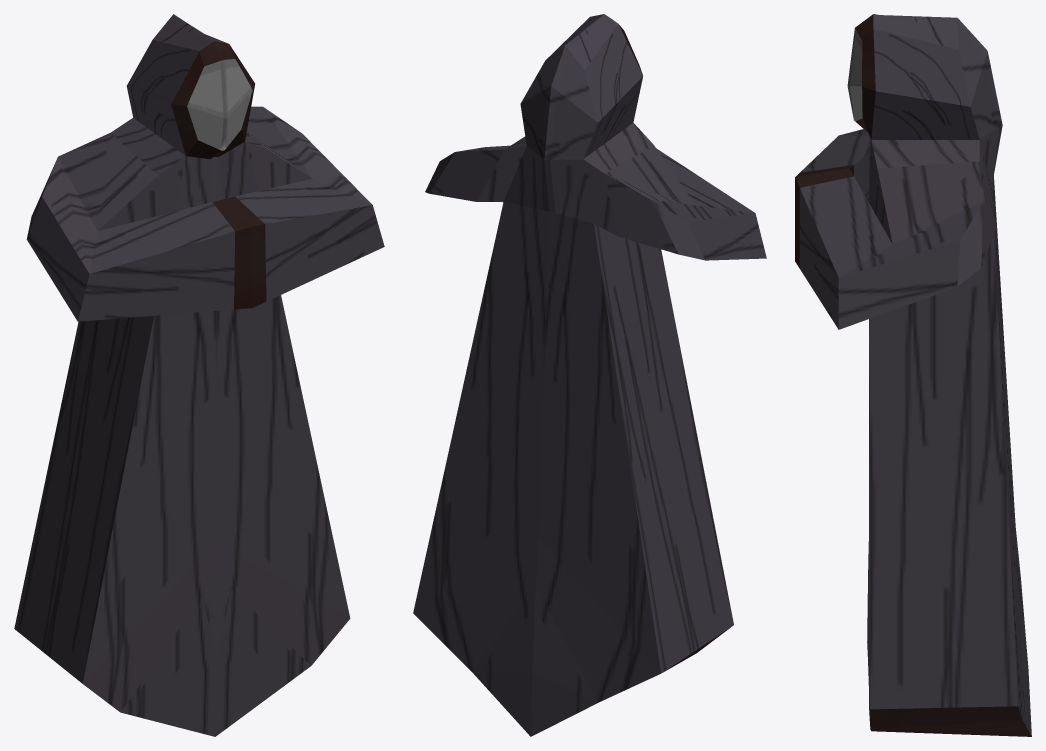
The model's file is templar.glb.
The picture shows the model from 3 angles, left to right: view 1: azimuth 30°, elevation 25°; view 2: azimuth 150°, elevation 25°; view 3: azimuth 270°, elevation 25°; orthographic projection. The views are drawn at different scales.
Parts seen in each view (by area): view 1: Cube; view 2: Cube; view 3: Cube.
Part boxes in pixels (x1,y1,x2,y2): Cube: (14,14,384,736); Cube: (413,14,766,736); Cube: (795,14,1031,736).
Bounding box in the file's own units: 5.38 × 11.74 × 3.49.
1 material, 1 textured.
